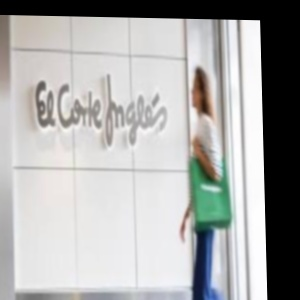corte_ingles: (142, 47, 194, 107)
